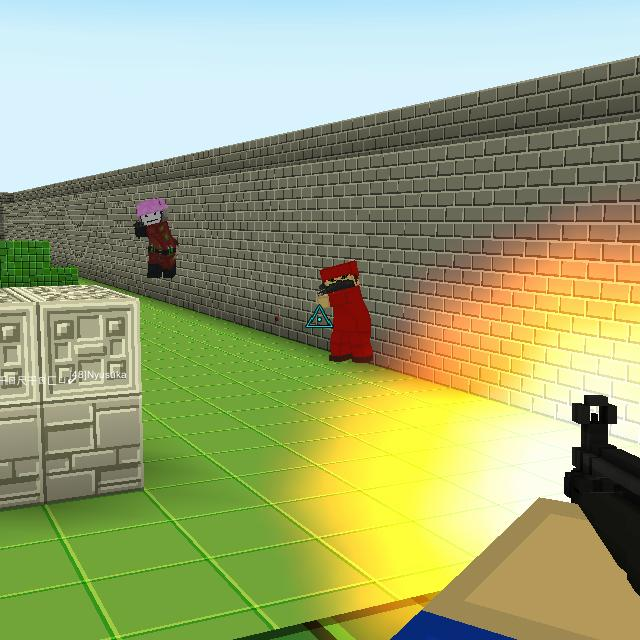enemy: (316, 260, 376, 364), (134, 197, 179, 279)
